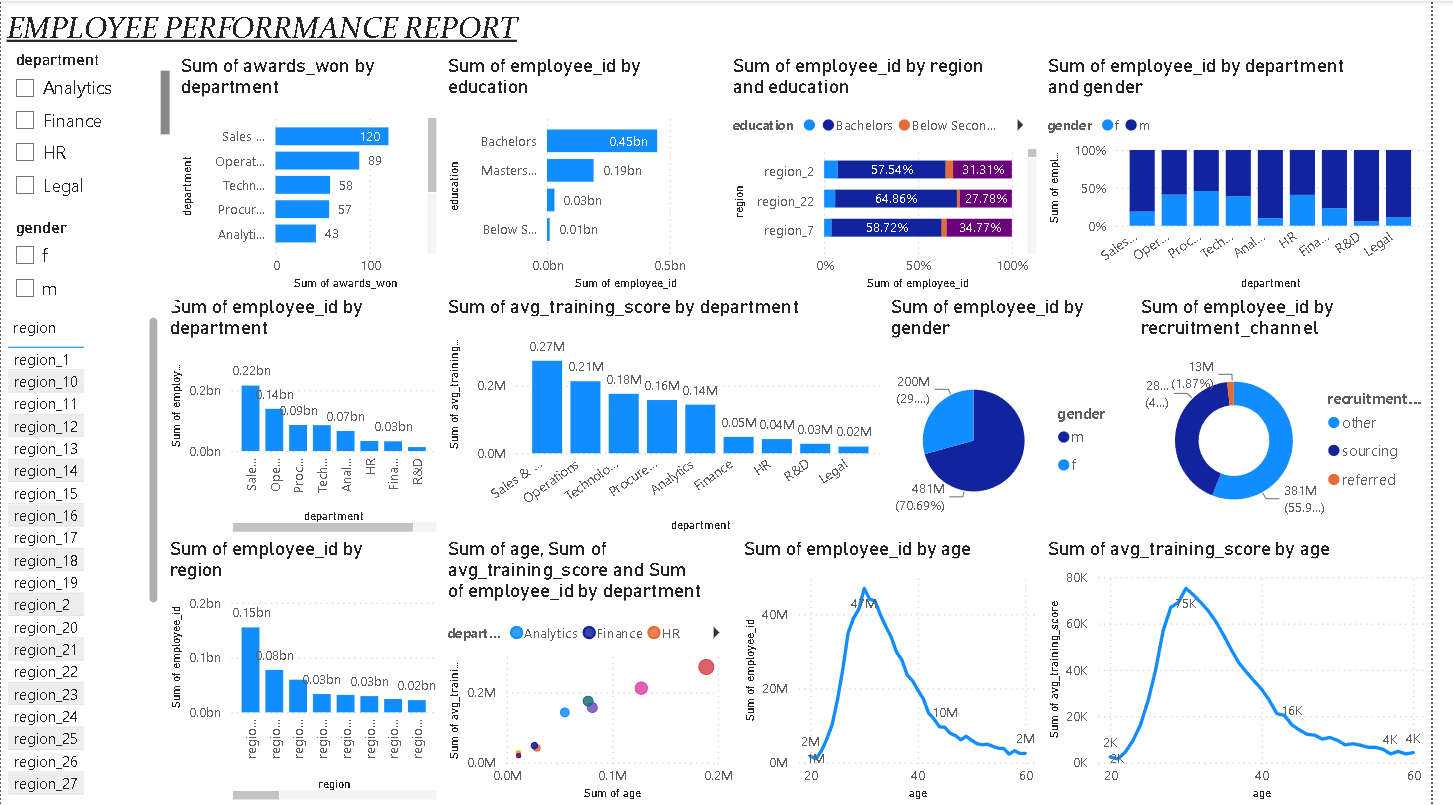

Layout of this report page (visuals, bound fields, positions):
{"tool":"powerbi","page":{"name":"Page 1","canvas":[1280,720],"ordinal":0},"visuals":[{"type":"clusteredColumnChart","fields":{"Y":["Sum(Uncleaned_employees_final_dataset (1).employee_id)"],"Category":["Uncleaned_employees_final_dataset (1).department"]},"box":[146,263.3,249,216.7],"z":0},{"type":"clusteredColumnChart","fields":{"Category":["Uncleaned_employees_final_dataset (1).region"],"Y":["Sum(Uncleaned_employees_final_dataset (1).employee_id)"]},"box":[146,480,249,240],"z":1000},{"type":"clusteredColumnChart","fields":{"Y":["Sum(Uncleaned_employees_final_dataset (1).avg_training_score)"],"Category":["Uncleaned_employees_final_dataset (1).department"]},"box":[394.9,263.3,401.2,216.7],"z":2000},{"type":"clusteredBarChart","fields":{"Y":["Sum(Uncleaned_employees_final_dataset (1).employee_id)"],"Category":["Uncleaned_employees_final_dataset (1).education"]},"box":[394.9,47.5,255.2,215.8],"z":3000},{"type":"clusteredBarChart","fields":{"Category":["Uncleaned_employees_final_dataset (1).department"],"Y":["Sum(Uncleaned_employees_final_dataset (1).awards_won)"]},"box":[155.8,47.5,239.1,215.8],"z":4000},{"type":"pieChart","fields":{"Category":["Uncleaned_employees_final_dataset (1).gender"],"Y":["Sum(Uncleaned_employees_final_dataset (1).employee_id)"]},"box":[791.6,263.3,223.9,216.7],"z":5000},{"type":"donutChart","fields":{"Y":["Sum(Uncleaned_employees_final_dataset (1).employee_id)"],"Category":["Uncleaned_employees_final_dataset (1).recruitment_channel"]},"box":[1015.5,263.3,264.2,216.7],"z":6000},{"type":"lineChart","fields":{"Category":["Uncleaned_employees_final_dataset (1).age"],"Y":["Sum(Uncleaned_employees_final_dataset (1).avg_training_score)"]},"box":[932.2,480,347.5,240],"z":7000},{"type":"lineChart","fields":{"Category":["Uncleaned_employees_final_dataset (1).age"],"Y":["Sum(Uncleaned_employees_final_dataset (1).employee_id)"]},"box":[660,480,272.2,240],"z":8000},{"type":"hundredPercentStackedColumnChart","fields":{"Category":["Uncleaned_employees_final_dataset (1).department"],"Y":["Sum(Uncleaned_employees_final_dataset (1).employee_id)"],"Series":["Uncleaned_employees_final_dataset (1).gender"]},"box":[932.2,47.5,347.5,215.8],"z":9000},{"type":"hundredPercentStackedBarChart","fields":{"Category":["Uncleaned_employees_final_dataset (1).region"],"Y":["Sum(Uncleaned_employees_final_dataset (1).employee_id)"],"Series":["Uncleaned_employees_final_dataset (1).education"]},"box":[650.1,47.5,282.1,215.8],"z":10000},{"type":"scatterChart","fields":{"X":["Sum(Uncleaned_employees_final_dataset (1).age)"],"Y":["Sum(Uncleaned_employees_final_dataset (1).avg_training_score)"],"Size":["Sum(Uncleaned_employees_final_dataset (1).employee_id)"],"Series":["Uncleaned_employees_final_dataset (1).department"]},"box":[394.9,480,265.1,240],"z":11000},{"type":"slicer","fields":{"Values":["Uncleaned_employees_final_dataset (1).department"]},"box":[0,39.4,155.8,150.4],"z":14001},{"type":"slicer","fields":{"Values":["Uncleaned_employees_final_dataset (1).gender"]},"box":[0,189.9,155.8,87.8],"z":14002},{"type":"tableEx","fields":{"Values":["Uncleaned_employees_final_dataset (1).region"]},"box":[0,277.6,146,442.4],"z":14004},{"type":"textbox","box":[0,2.7,476.4,44.8],"z":14005}]}

Visuals, with their boxes in screenshot pixels (x1, y1, x2, y2), scaled from the page's 1280x720 canvas onto the 1453x805 screenshot:
clusteredColumnChart - Sum(Uncleaned_employees_final_dataset (1).employee_id) x Uncleaned_employees_final_dataset (1).department: x1=166 y1=294 x2=448 y2=537
clusteredColumnChart - Uncleaned_employees_final_dataset (1).region x Sum(Uncleaned_employees_final_dataset (1).employee_id): x1=166 y1=537 x2=448 y2=804
clusteredColumnChart - Sum(Uncleaned_employees_final_dataset (1).avg_training_score) x Uncleaned_employees_final_dataset (1).department: x1=448 y1=294 x2=904 y2=537
clusteredBarChart - Sum(Uncleaned_employees_final_dataset (1).employee_id) x Uncleaned_employees_final_dataset (1).education: x1=448 y1=53 x2=738 y2=294
clusteredBarChart - Uncleaned_employees_final_dataset (1).department x Sum(Uncleaned_employees_final_dataset (1).awards_won): x1=177 y1=53 x2=448 y2=294
pieChart - Uncleaned_employees_final_dataset (1).gender x Sum(Uncleaned_employees_final_dataset (1).employee_id): x1=899 y1=294 x2=1153 y2=537
donutChart - Sum(Uncleaned_employees_final_dataset (1).employee_id) x Uncleaned_employees_final_dataset (1).recruitment_channel: x1=1153 y1=294 x2=1452 y2=537
lineChart - Uncleaned_employees_final_dataset (1).age x Sum(Uncleaned_employees_final_dataset (1).avg_training_score): x1=1058 y1=537 x2=1452 y2=804
lineChart - Uncleaned_employees_final_dataset (1).age x Sum(Uncleaned_employees_final_dataset (1).employee_id): x1=749 y1=537 x2=1058 y2=804
hundredPercentStackedColumnChart - Uncleaned_employees_final_dataset (1).department x Sum(Uncleaned_employees_final_dataset (1).employee_id): x1=1058 y1=53 x2=1452 y2=294
hundredPercentStackedBarChart - Uncleaned_employees_final_dataset (1).region x Sum(Uncleaned_employees_final_dataset (1).employee_id): x1=738 y1=53 x2=1058 y2=294
scatterChart - Sum(Uncleaned_employees_final_dataset (1).age) x Sum(Uncleaned_employees_final_dataset (1).avg_training_score): x1=448 y1=537 x2=749 y2=804
slicer - Uncleaned_employees_final_dataset (1).department: x1=0 y1=44 x2=177 y2=212
slicer - Uncleaned_employees_final_dataset (1).gender: x1=0 y1=212 x2=177 y2=310
tableEx - Uncleaned_employees_final_dataset (1).region: x1=0 y1=310 x2=166 y2=804
textbox: x1=0 y1=3 x2=541 y2=53
